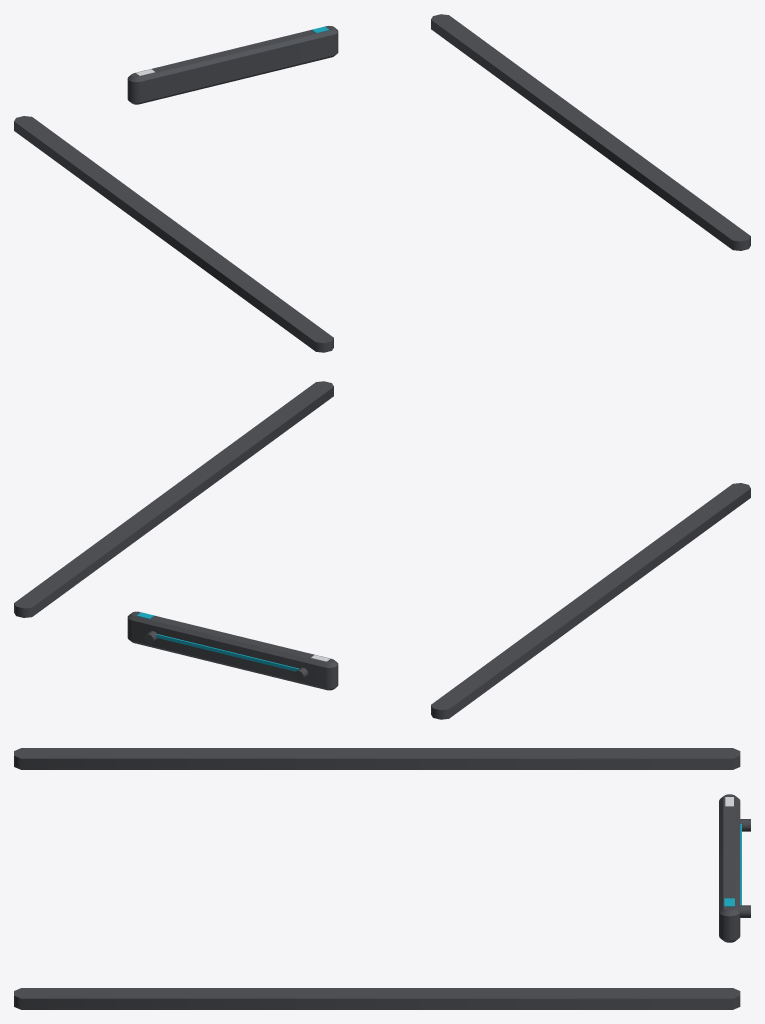
File: n2_mount.obj
The picture shows the model from 3 angles, top to bottom: view 1: azimuth 30°, elevation 25°; view 2: azimuth 150°, elevation 25°; view 3: azimuth 270°, elevation 25°; orthographic projection. The views are drawn at different scales.
Parts seen in each view (by area): view 1: n2_mount; view 2: n2_mount; view 3: n2_mount.
Boxes of the visible parts, left/top/right/bottom form: n2_mount: left=14, top=14, right=750, bottom=352; n2_mount: left=14, top=381, right=750, bottom=719; n2_mount: left=14, top=748, right=750, bottom=1009.
Bounding box in the file's own units: 1.67 × 0.102 × 2.08.
